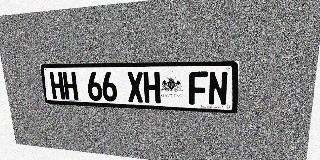6: (101, 72, 118, 102), (86, 72, 103, 101)
F: (189, 71, 208, 105)
H: (143, 72, 161, 103), (62, 72, 78, 100), (49, 72, 65, 99)
N: (208, 71, 228, 106)
X: (127, 72, 144, 103)
